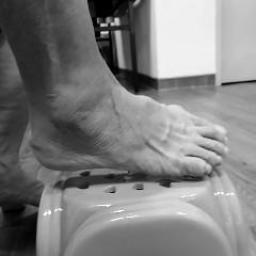Lateral View -Right Foot-: (8, 47, 237, 195)
